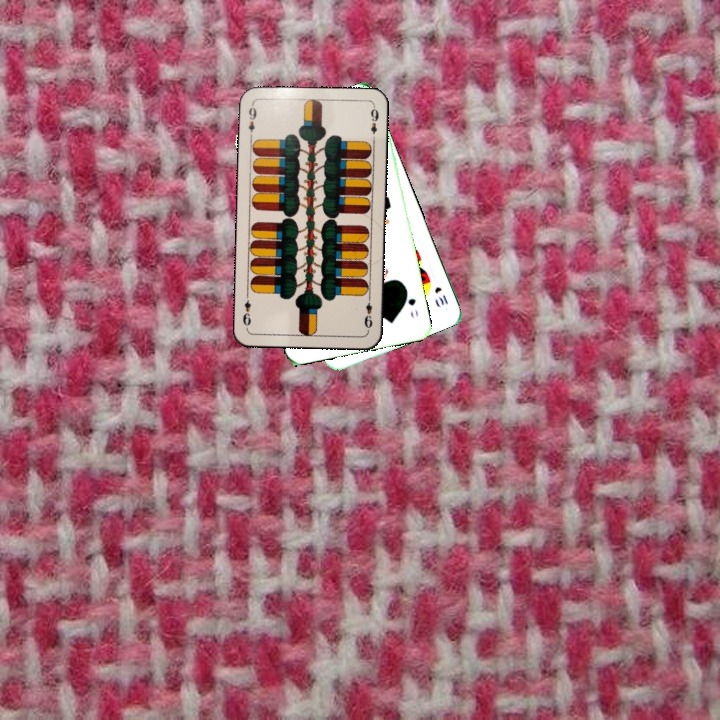E9: (244, 101, 259, 141), (360, 292, 375, 331)
GO: (401, 285, 421, 321)
S10: (431, 282, 451, 308)
